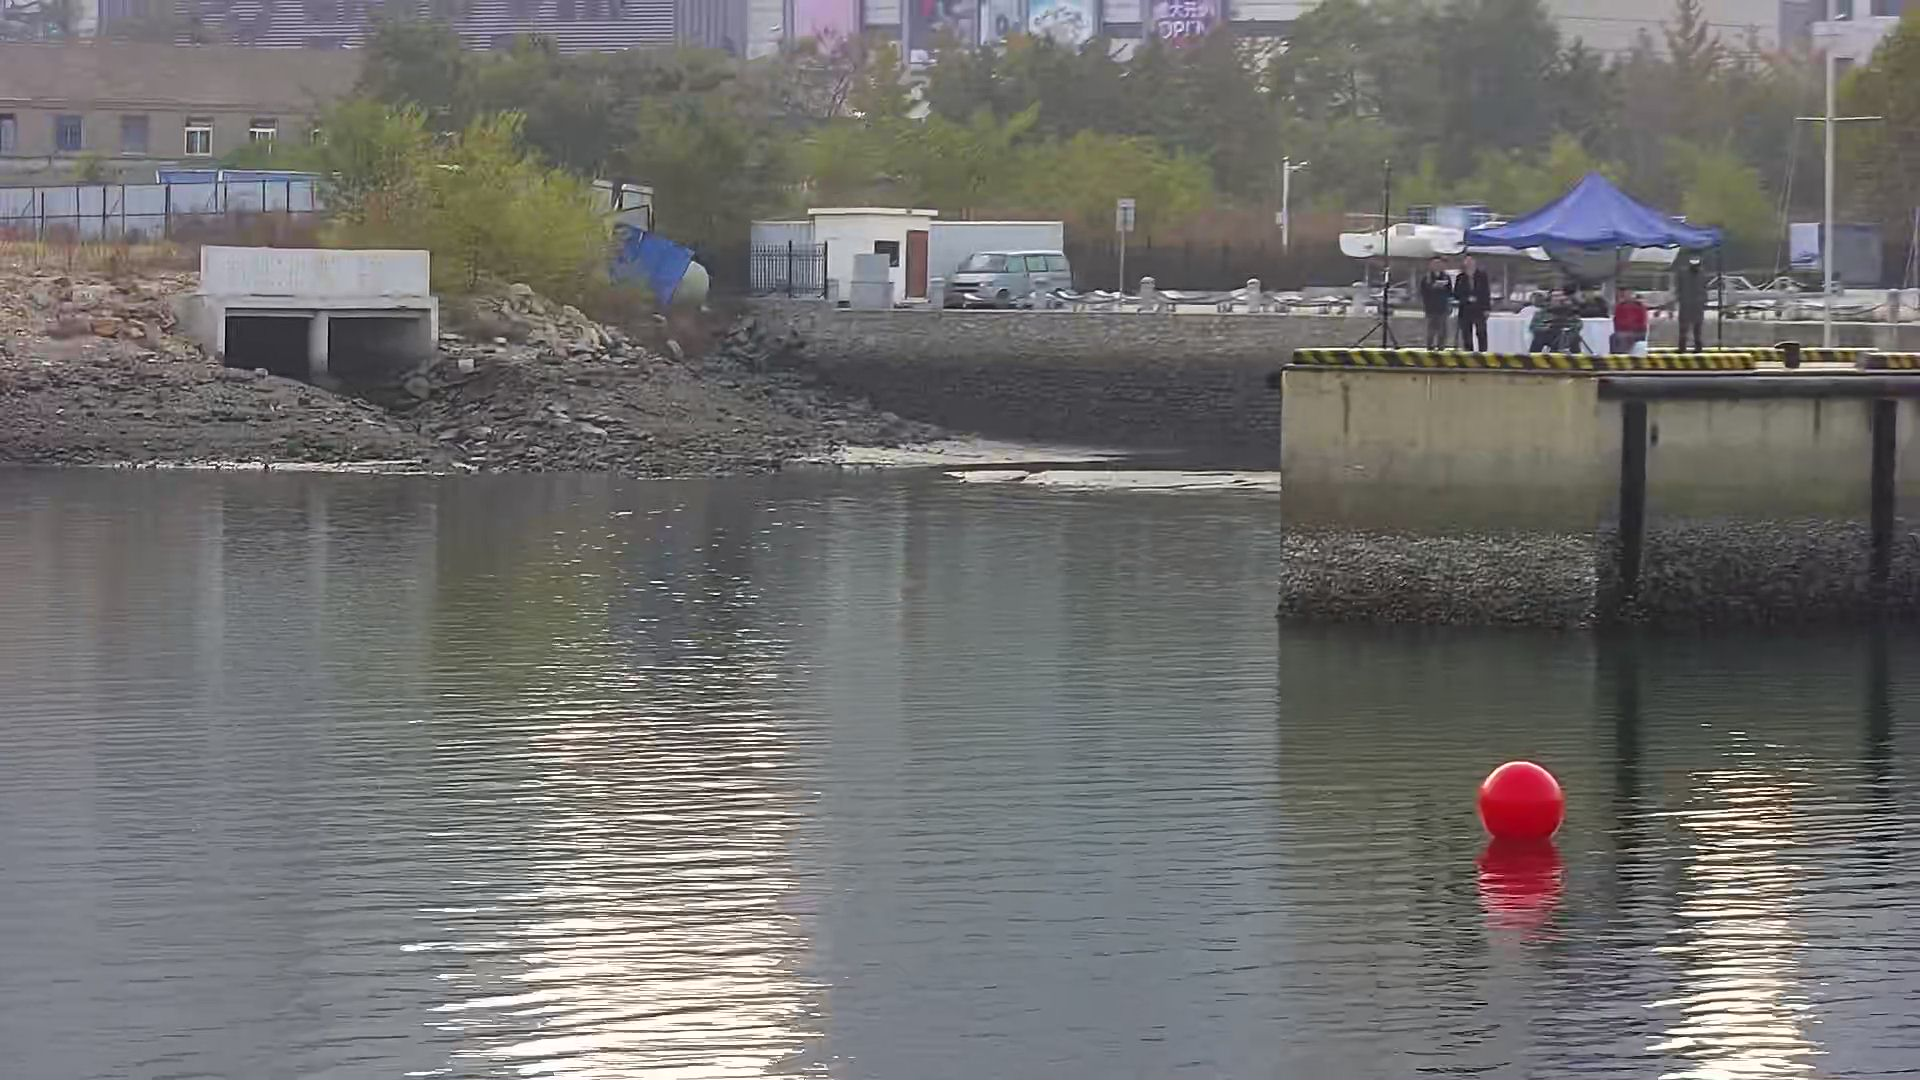ball: (1472, 754, 1567, 849)
